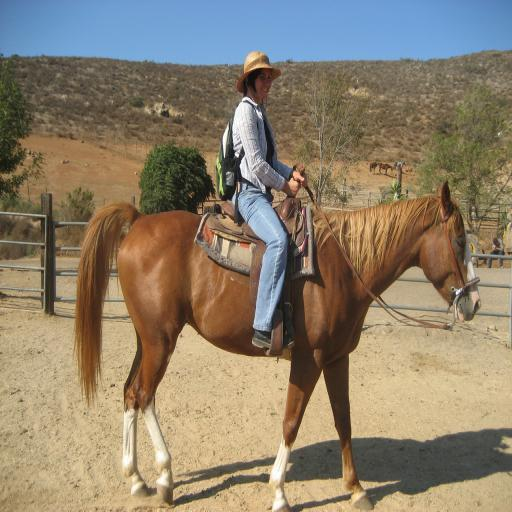horse: (71, 180, 482, 512)
